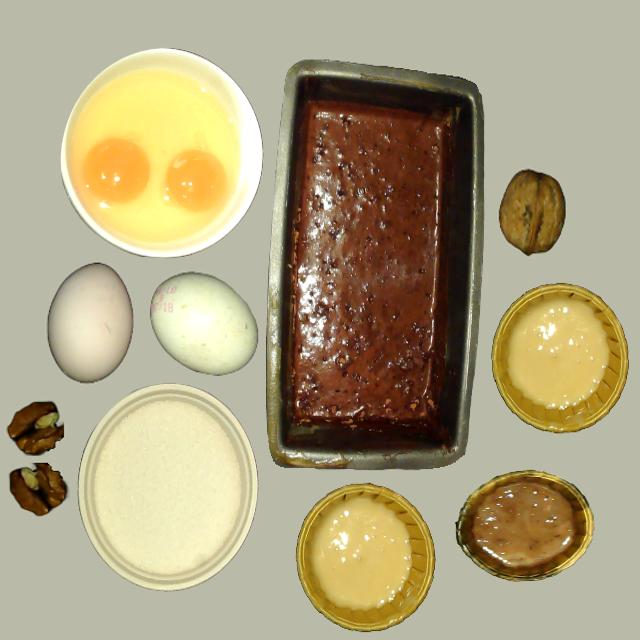Egg: (81, 138, 150, 206), (165, 149, 225, 212)
Sugar: (93, 396, 243, 580)
Walnut: (499, 171, 565, 257)
